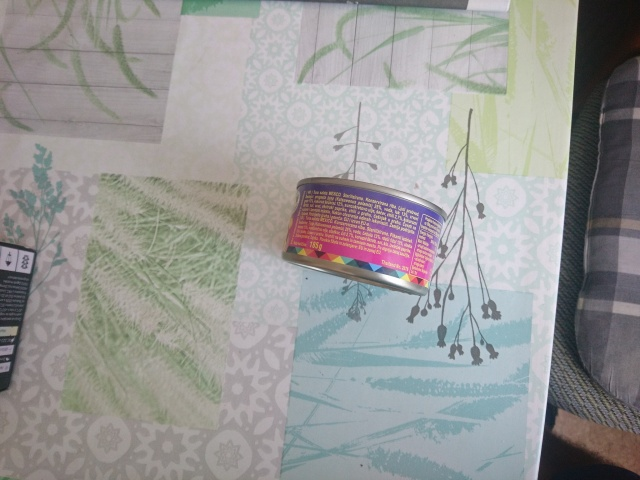Giana Tuna Salad Mexico 185g: (278, 174, 451, 298)
